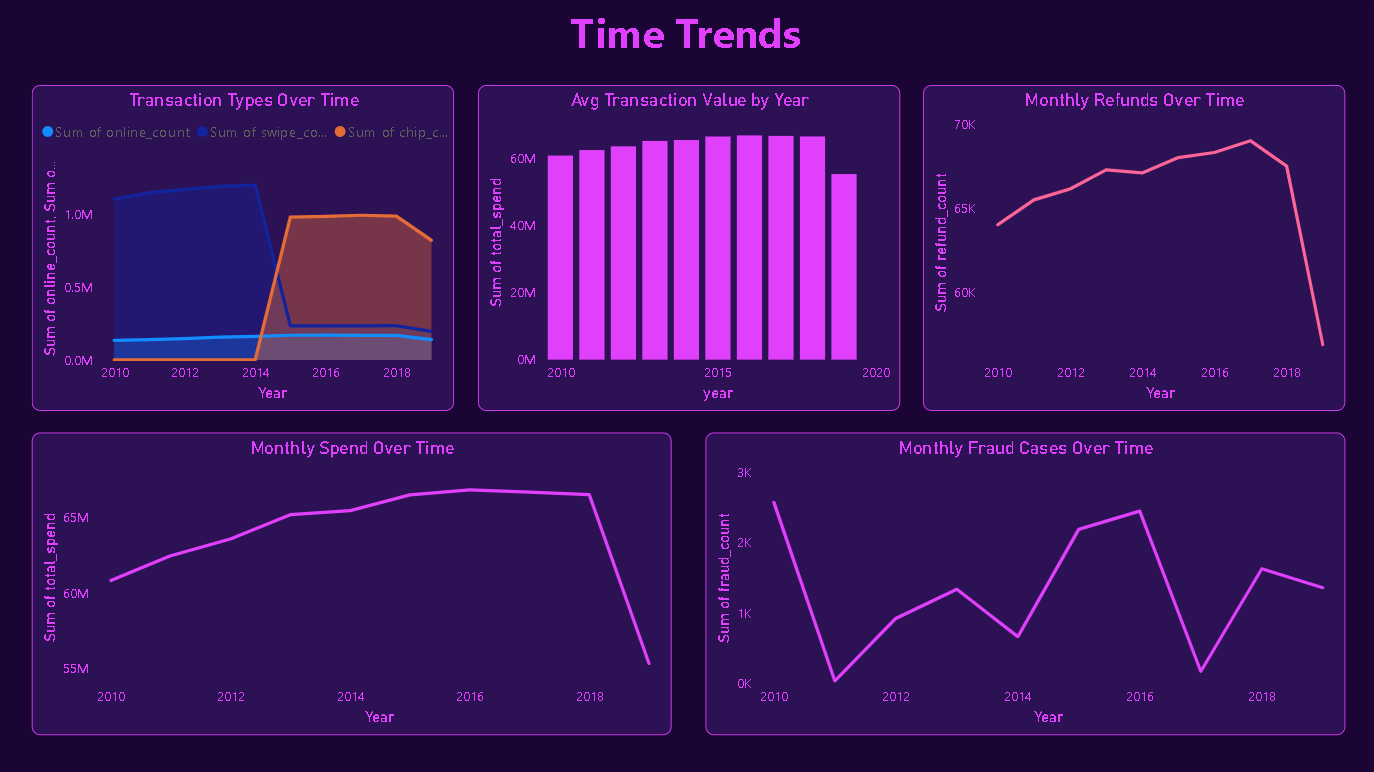

The page's visual inventory and layout, read from the dashboard file:
{"tool":"powerbi","page":{"name":"Time Trends","canvas":[1280,720],"ordinal":3},"visuals":[{"type":"lineChart","title":"Monthly Spend Over Time","fields":{"Category":["Monthly Trends.year_month.Variation.Date Hierarchy.Year","Monthly Trends.year_month.Variation.Date Hierarchy.Quarter","Monthly Trends.year_month.Variation.Date Hierarchy.Month","Monthly Trends.year_month.Variation.Date Hierarchy.Day"],"Y":["Sum(Monthly Trends.total_spend)"]},"box":[31.4,402.3,595.4,281.4],"z":0},{"type":"clusteredColumnChart","title":"Avg Transaction Value by Year","fields":{"Category":["Monthly Trends.year"],"Y":["Sum(Monthly Trends.total_spend)"]},"box":[445.9,79.1,393,303.5],"z":1000},{"type":"areaChart","title":"Transaction Types Over Time","fields":{"Category":["Monthly Trends.year_month.Variation.Date Hierarchy.Year","Monthly Trends.year_month.Variation.Date Hierarchy.Quarter","Monthly Trends.year_month.Variation.Date Hierarchy.Month","Monthly Trends.year_month.Variation.Date Hierarchy.Day"],"Y":["Sum(Monthly Trends.online_count)","Sum(Monthly Trends.swipe_count)","Sum(Monthly Trends.chip_count)"]},"box":[31.4,79.1,393,303.5],"z":2000},{"type":"lineChart","title":"Monthly Fraud Cases Over Time","fields":{"Category":["Monthly Trends.year_month.Variation.Date Hierarchy.Year","Monthly Trends.year_month.Variation.Date Hierarchy.Quarter","Monthly Trends.year_month.Variation.Date Hierarchy.Month","Monthly Trends.year_month.Variation.Date Hierarchy.Day"],"Y":["Sum(Monthly Trends.fraud_count)"]},"box":[658.1,402.3,595.4,281.4],"z":3000},{"type":"lineChart","title":"Monthly Refunds Over Time","fields":{"Category":["Monthly Trends.year_month.Variation.Date Hierarchy.Year","Monthly Trends.year_month.Variation.Date Hierarchy.Quarter","Monthly Trends.year_month.Variation.Date Hierarchy.Month","Monthly Trends.year_month.Variation.Date Hierarchy.Day"],"Y":["Sum(Monthly Trends.refund_count)"]},"box":[860.5,79.1,393,303.5],"z":4000},{"type":"textbox","box":[392.9,0,494.2,62.8],"z":4001}]}

Visuals, with their boxes in screenshot pixels (x1, y1, x2, y2), scaled from the page's 1280x720 canvas onto the 1374x772 screenshot:
"Monthly Spend Over Time" lineChart: <bbox>34, 431, 673, 733</bbox>
"Avg Transaction Value by Year" clusteredColumnChart: <bbox>479, 85, 901, 410</bbox>
"Transaction Types Over Time" areaChart: <bbox>34, 85, 456, 410</bbox>
"Monthly Fraud Cases Over Time" lineChart: <bbox>706, 431, 1346, 733</bbox>
"Monthly Refunds Over Time" lineChart: <bbox>924, 85, 1346, 410</bbox>
textbox: <bbox>422, 0, 952, 67</bbox>
